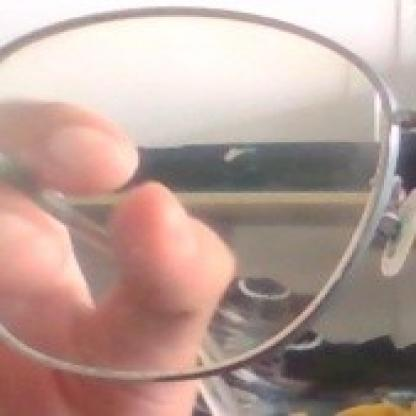not trash: (0, 5, 416, 375)
